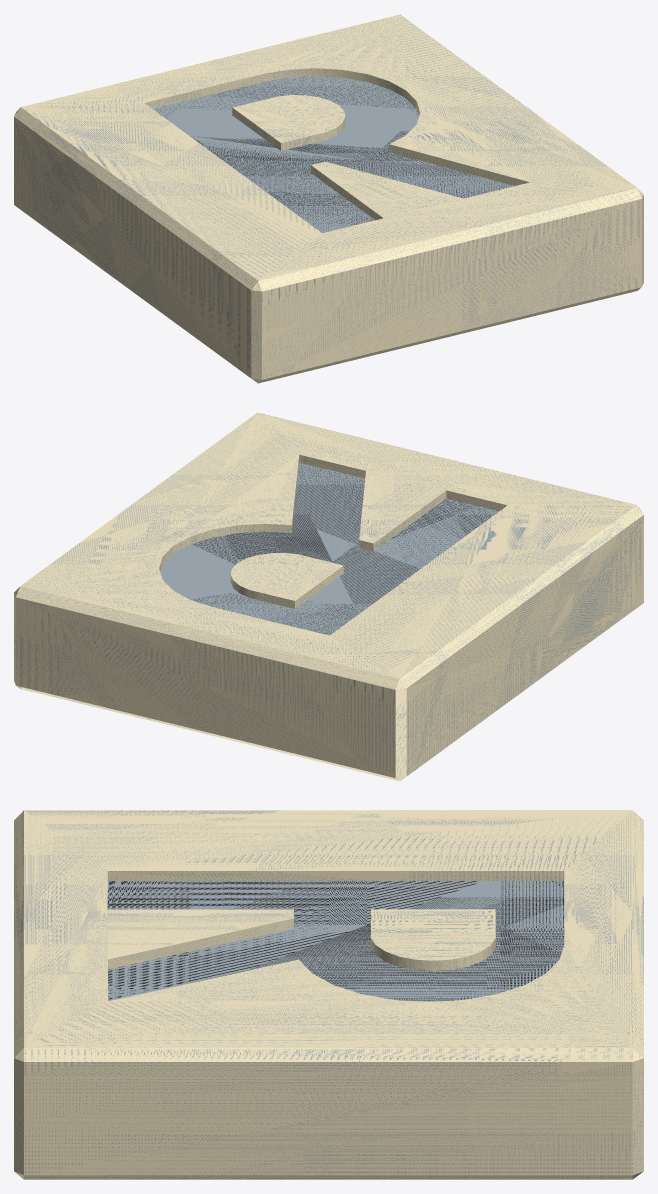
File: Boardgame_Anagram_Tile_R.fbx
3 views of the same model, one above another, from view 1: azimuth 30°, elevation 25°; view 2: azimuth 150°, elevation 25°; view 3: azimuth 270°, elevation 25° (orthographic). The views are drawn at different scales.
Visible parts, largest first — view 1: Model; view 2: Model; view 3: Model.
Part boxes in pixels (<box>): Model: <box>14,14,643,383</box>; Model: <box>14,412,643,781</box>; Model: <box>14,810,643,1179</box>.
Bounding box in the file's own units: 195 × 48.83 × 212.
